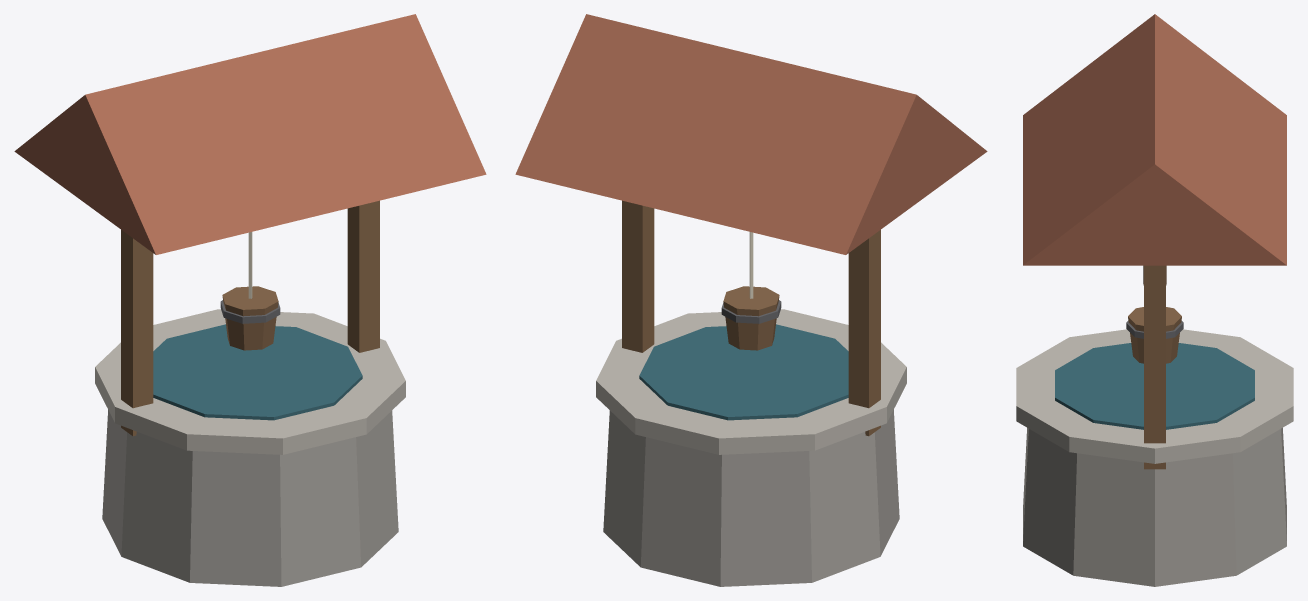
The model's file is pozo.glb.
3 renders of one model, left to right at view 1: azimuth 30°, elevation 25°; view 2: azimuth 150°, elevation 25°; view 3: azimuth 270°, elevation 25°, orthographic. The views are drawn at different scales.
Visible parts, largest first — view 1: FG_Pozo, FG_Pozo_Cubo; view 2: FG_Pozo, FG_Pozo_Cubo; view 3: FG_Pozo, FG_Pozo_Cubo.
Part boxes in pixels (<box>): FG_Pozo: <box>14,14,486,586</box>; FG_Pozo_Cubo: <box>220,232,280,350</box>; FG_Pozo: <box>515,14,987,586</box>; FG_Pozo_Cubo: <box>721,232,781,350</box>; FG_Pozo: <box>1016,14,1293,586</box>; FG_Pozo_Cubo: <box>1126,307,1183,363</box>.
Size of the model in its own units: 2.1 by 2.86 by 1.64.
